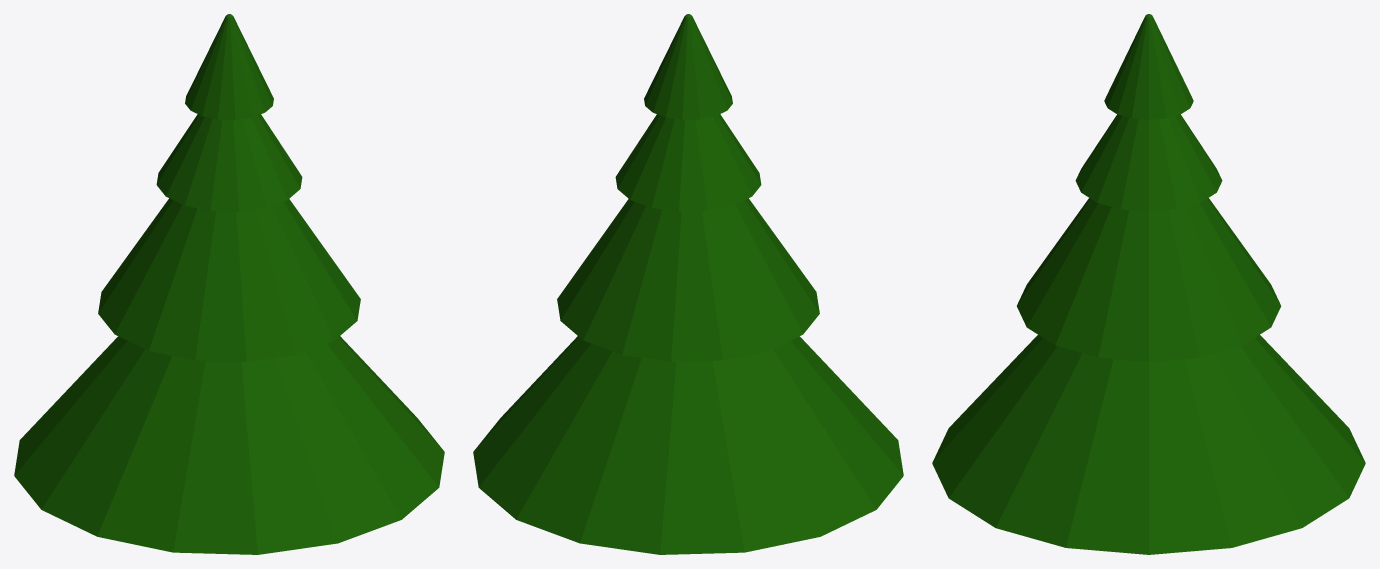
File: Tree.gltf
The picture shows the model from 3 angles, left to right: view 1: azimuth 30°, elevation 25°; view 2: azimuth 150°, elevation 25°; view 3: azimuth 270°, elevation 25°; orthographic projection.
Visible parts, largest first — view 1: Cylinder.001; view 2: Cylinder.001; view 3: Cylinder.001.
Part boxes in pixels (<box>): Cylinder.001: <box>14,14,444,554</box>; Cylinder.001: <box>473,14,903,554</box>; Cylinder.001: <box>932,14,1365,554</box>.
Size of the model in its own units: 3.69 by 4.91 by 3.69.
